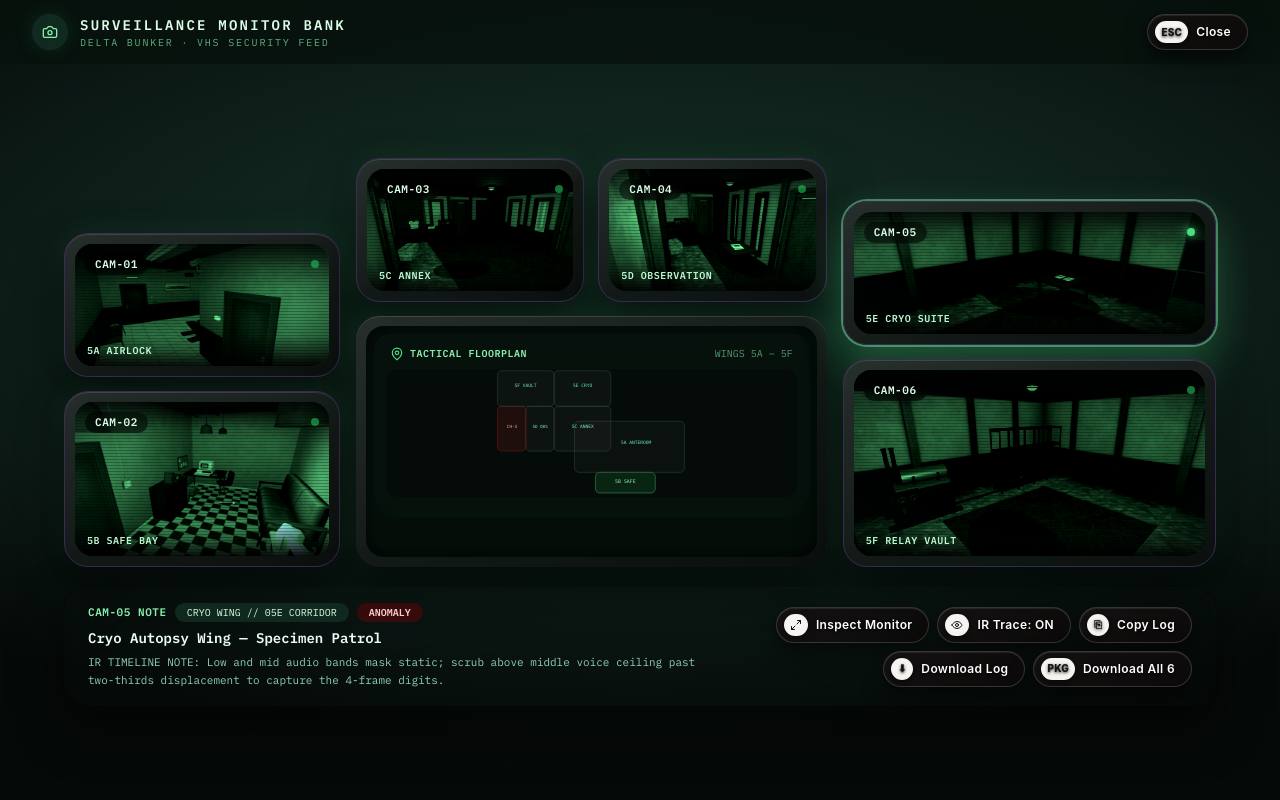
Test: Room 5 (The Surveillance Morgue) E2E 4-Tier Opaque-Box Suite › Tier 1: Category-Partition Feature Coverage › T1-06: CCTV camera switching updates active feed and zone stamp
This screenshot has width=1280, height=800.
Expected: the text "CAM-05 NOTE" is shown, x1=88 y1=604 x2=167 y2=621
// Switch to CAM-04 (Observation Hallway)
Step 1. Click the text "CAM-04" → {"x": 651, "y": 189}, box x1=619 y1=179 x2=682 y2=200
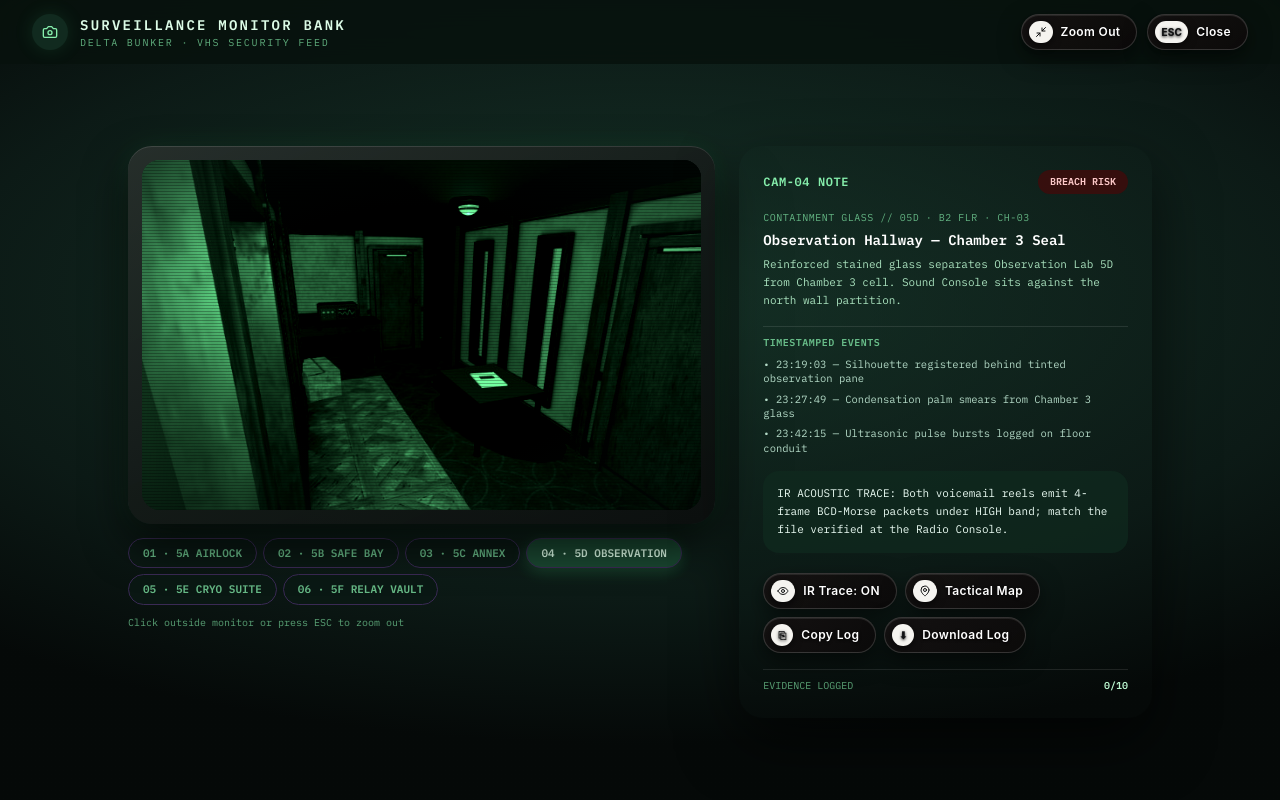
Now the text "CAM-04 NOTE" is shown, box x1=763 y1=174 x2=849 y2=190
Now the heading "Observation Hallway — Chamber 3 Seal" is shown, box x1=763 y1=231 x2=1066 y2=249
Now the text "BREACH RISK" is shown, box x1=1038 y1=170 x2=1128 y2=194
